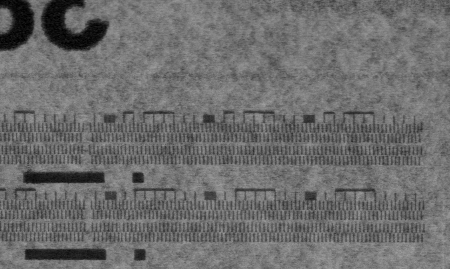Oblique printing: (414, 119, 427, 134)
